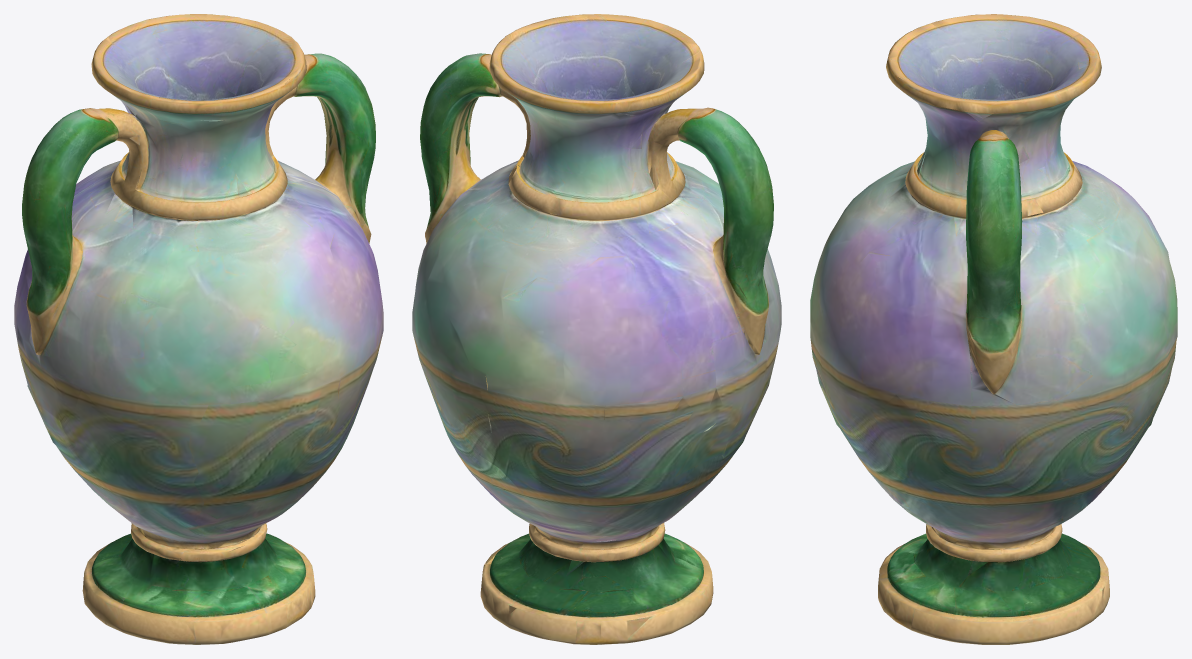
The model's file is opaline-echo-amphora.glb.
3 views of the same model, side by side, from view 1: azimuth 30°, elevation 25°; view 2: azimuth 150°, elevation 25°; view 3: azimuth 270°, elevation 25° (orthographic).
Parts seen in each view (by area): view 1: breakable_l2_opaline_echo_amphora_intact, breakable_l2_opaline_echo_amphora; view 2: breakable_l2_opaline_echo_amphora_intact, breakable_l2_opaline_echo_amphora; view 3: breakable_l2_opaline_echo_amphora_intact, breakable_l2_opaline_echo_amphora.
Boxes of the visible parts, left/top/right/bottom form: breakable_l2_opaline_echo_amphora_intact: left=14, top=14, right=383, bottom=644; breakable_l2_opaline_echo_amphora: left=17, top=14, right=381, bottom=644; breakable_l2_opaline_echo_amphora_intact: left=412, top=14, right=781, bottom=644; breakable_l2_opaline_echo_amphora: left=412, top=15, right=781, bottom=636; breakable_l2_opaline_echo_amphora_intact: left=810, top=14, right=1177, bottom=644; breakable_l2_opaline_echo_amphora: left=810, top=15, right=1176, bottom=644.
Size of what is drawn, in the model's own units: 0.6186 by 0.92 by 0.5681.
3 materials, 1 textured.
